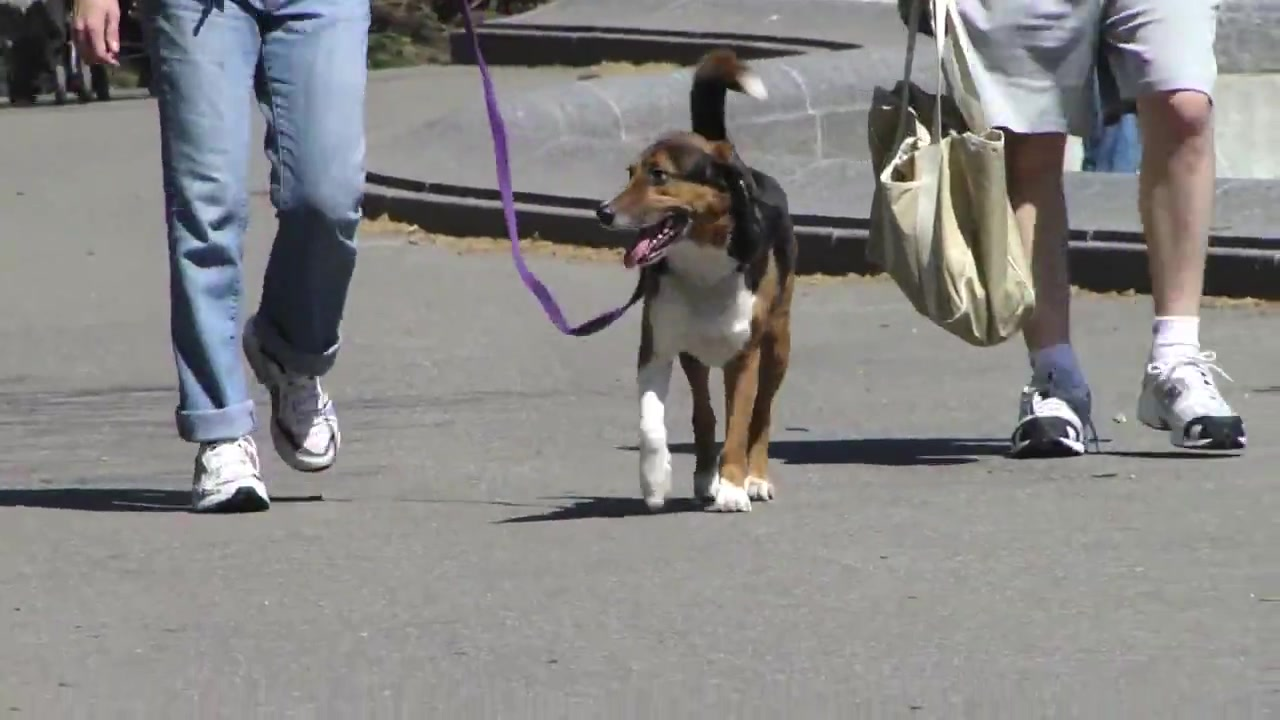dog: (591, 49, 802, 513)
